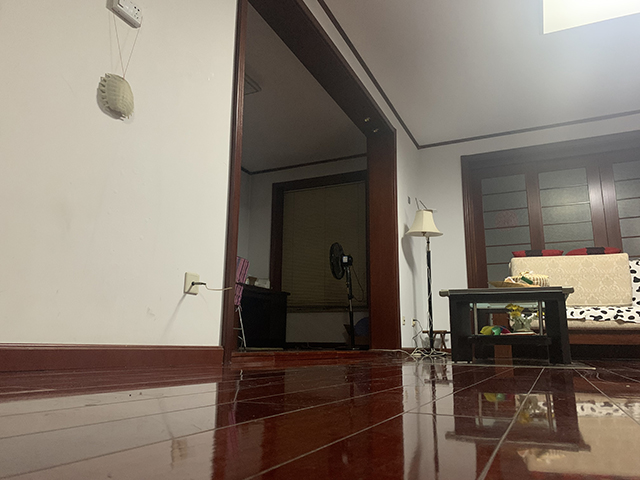cabinet: (234, 282, 291, 353)
sofa: (489, 247, 640, 362)
stool: (423, 328, 452, 356)
table: (439, 286, 575, 366)
wire: (363, 318, 451, 362)
